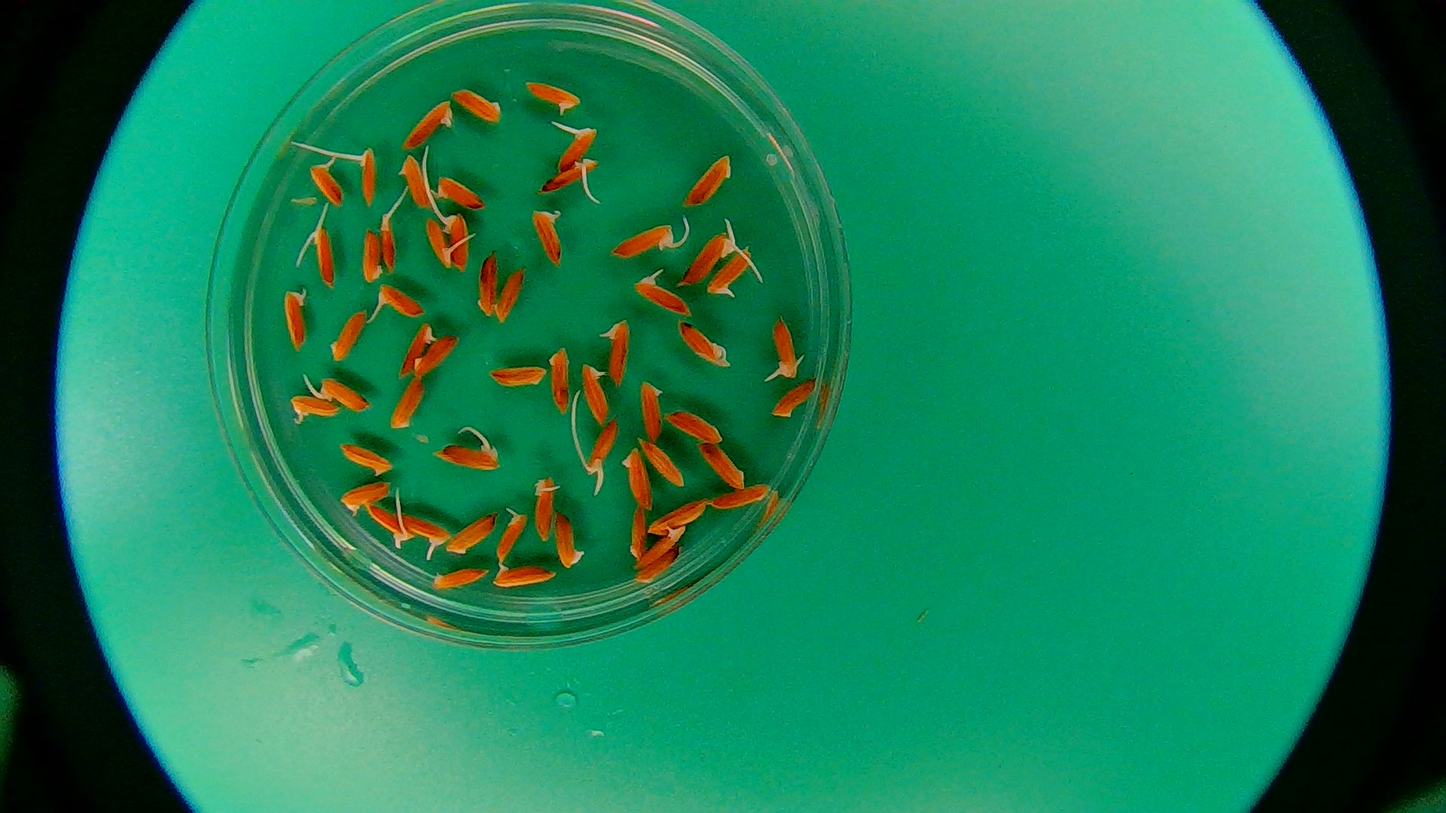no: (675, 319, 733, 375), (410, 330, 468, 382), (682, 151, 734, 208), (636, 436, 688, 489), (400, 99, 454, 150), (662, 403, 725, 446), (443, 509, 500, 556), (550, 509, 590, 575), (644, 500, 711, 539), (337, 437, 395, 481), (696, 439, 746, 490), (618, 447, 655, 513), (396, 322, 436, 380), (328, 303, 367, 362), (450, 84, 505, 124), (389, 377, 427, 434), (493, 266, 528, 326), (770, 378, 820, 419), (491, 563, 559, 593), (396, 154, 432, 210), (435, 174, 490, 210), (636, 379, 665, 446), (335, 481, 393, 514), (708, 482, 774, 510), (432, 566, 490, 596), (546, 343, 570, 413), (638, 551, 686, 586), (475, 251, 499, 318), (487, 366, 547, 391), (626, 502, 648, 565), (360, 227, 383, 286)
yes: (675, 228, 732, 288), (610, 218, 676, 262), (706, 246, 755, 300), (636, 273, 694, 317), (529, 206, 569, 268), (599, 316, 633, 388), (522, 80, 582, 120), (363, 502, 414, 549), (773, 314, 805, 384), (495, 505, 532, 565), (435, 442, 502, 473), (532, 474, 562, 543), (632, 526, 685, 565), (279, 283, 308, 352), (584, 421, 617, 480), (541, 163, 601, 195), (581, 360, 610, 426), (558, 128, 597, 175), (305, 227, 334, 288), (422, 215, 453, 271), (396, 513, 447, 547), (377, 283, 425, 318), (316, 381, 368, 413), (447, 206, 471, 273), (288, 393, 340, 423), (308, 161, 344, 204), (380, 215, 405, 273), (357, 150, 378, 209)
